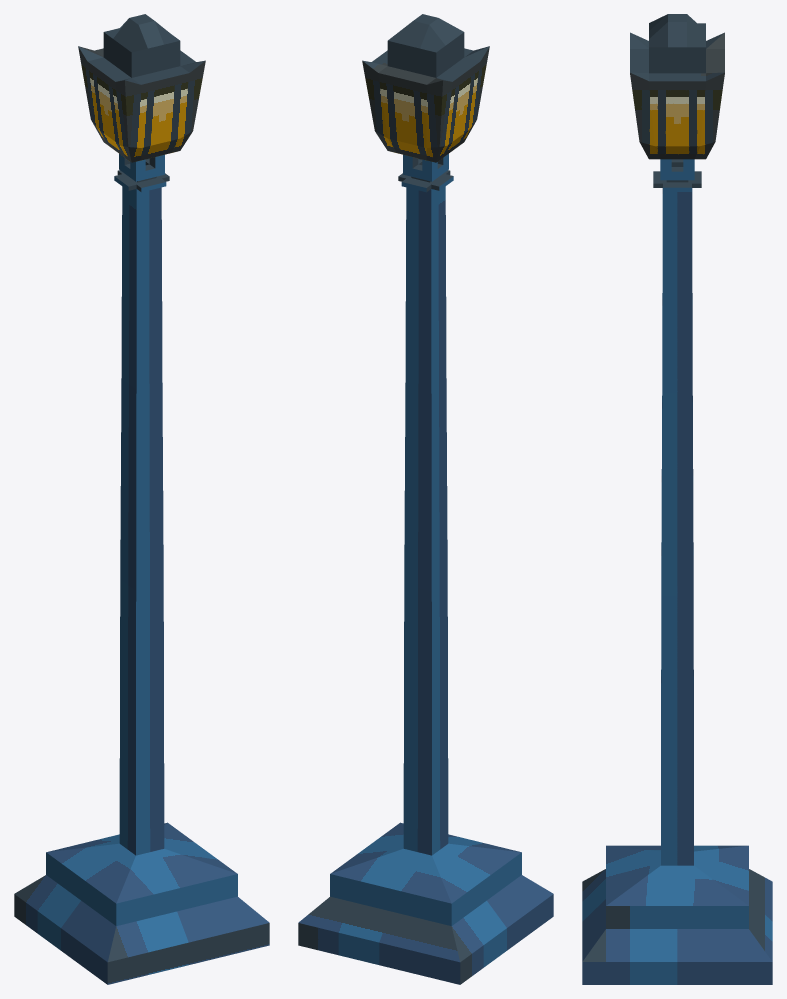
The model's file is lampost.fbx.
3 renders of one model, left to right at view 1: azimuth 30°, elevation 25°; view 2: azimuth 150°, elevation 25°; view 3: azimuth 270°, elevation 25°, orthographic.
Visible parts, largest first — view 1: cuboid, cuboid_1; view 2: cuboid, cuboid_1; view 3: cuboid, cuboid_1.
Part boxes in pixels (<box>): cuboid: <box>14,170,269,984</box>; cuboid_1: <box>78,14,205,181</box>; cuboid: <box>298,170,553,984</box>; cuboid_1: <box>362,14,489,181</box>; cuboid: <box>582,171,772,984</box>; cuboid_1: <box>630,14,724,180</box>.
Size of the model in its own units: 12.5 by 67.19 by 12.5.
Materials: 1 (1 with a texture image).
